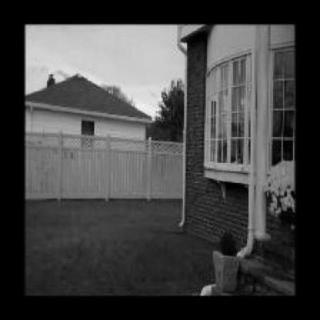other: (271, 160, 297, 238)
